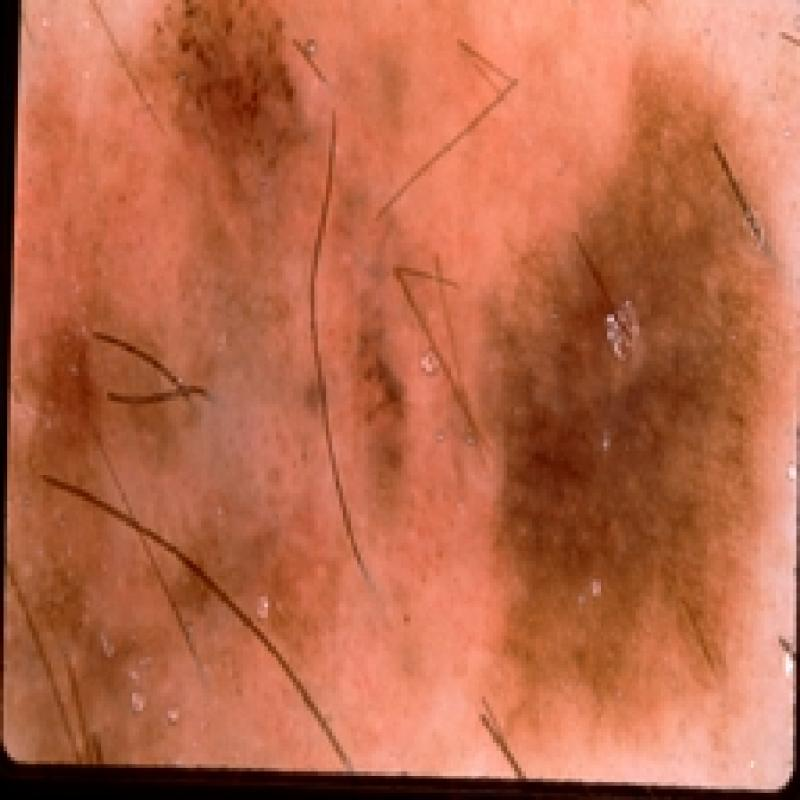malignant: (446, 107, 776, 694), (17, 234, 266, 547), (132, 5, 393, 262)
